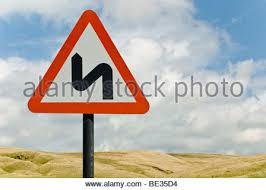Double_bend_left: (22, 6, 155, 116)
